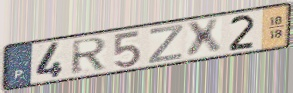2: (229, 13, 257, 52)
4: (34, 40, 68, 80)
5: (111, 28, 143, 69)
R: (70, 36, 109, 77)
X: (184, 16, 224, 59)
Z: (147, 22, 186, 65)
